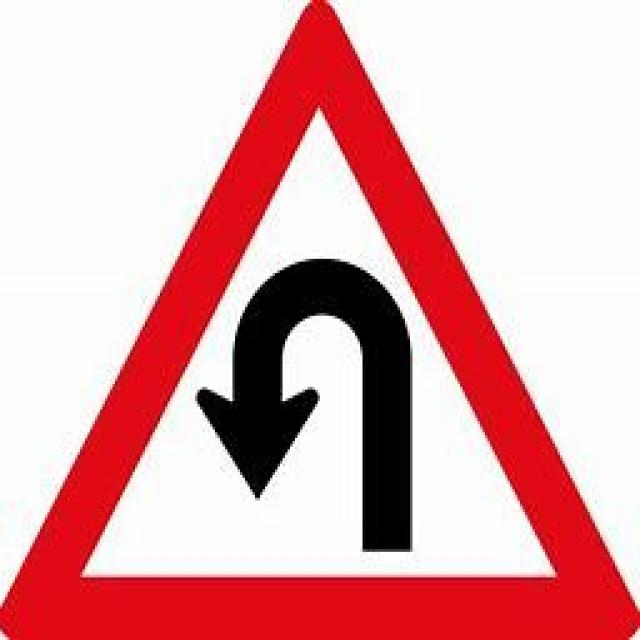road_rough: (2, 0, 638, 637)
